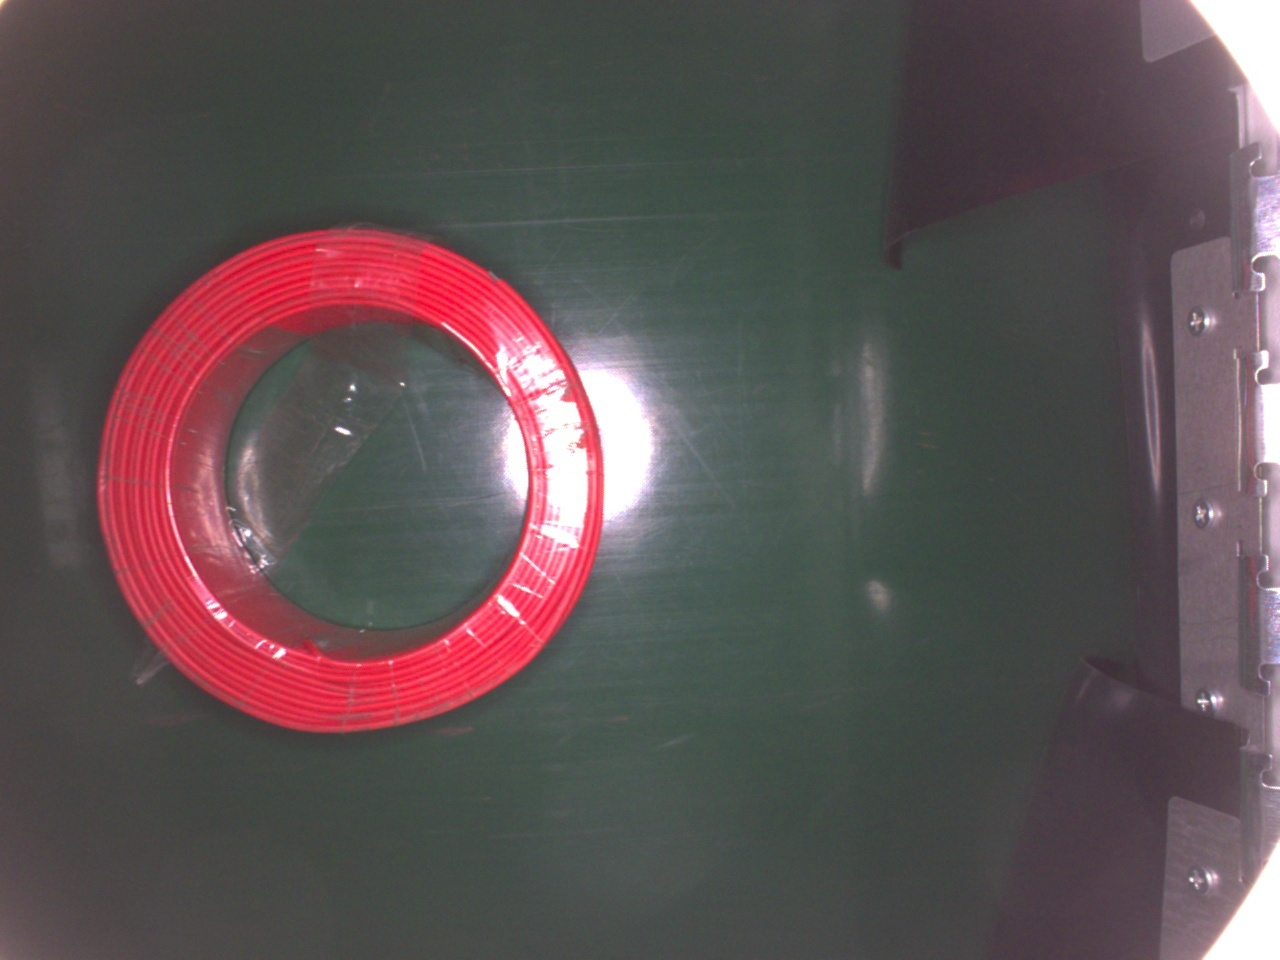red: (92, 224, 612, 745)
